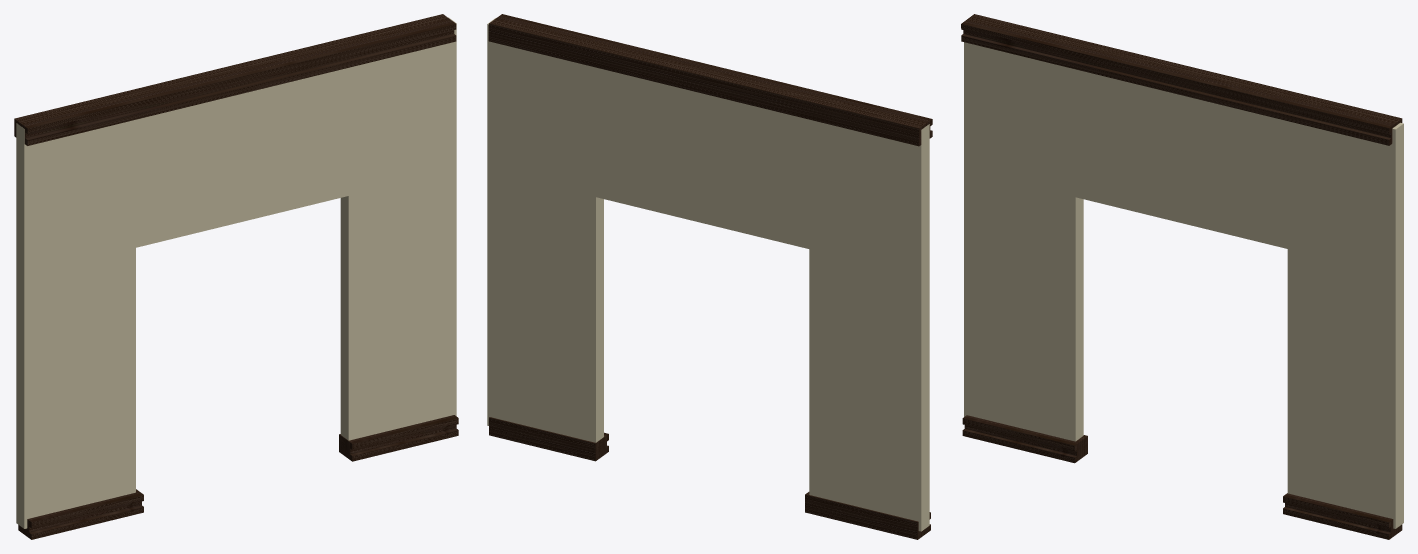
File: Environment_PlainEnteranceWall_Beige.glb
The picture shows the model from 3 angles, left to right: view 1: azimuth 30°, elevation 25°; view 2: azimuth 150°, elevation 25°; view 3: azimuth 330°, elevation 25°; orthographic projection.
Visible parts, largest first — view 1: Wall R, Cube.004, Cube.007, Cube.008; view 2: Wall R, Cube.004, Cube.008, Cube.007; view 3: Wall R, Cube.004, Cube.007, Cube.008.
Boxes of the visible parts, x1,y1,x2,y2 form: Wall R: [16, 17, 456, 528]; Cube.004: [14, 14, 456, 145]; Cube.007: [18, 489, 143, 539]; Cube.008: [339, 415, 458, 461]; Wall R: [487, 18, 929, 531]; Cube.004: [488, 14, 932, 146]; Cube.008: [489, 417, 608, 461]; Cube.007: [805, 492, 930, 539]; Wall R: [964, 42, 1403, 528]; Cube.004: [961, 14, 1402, 145]; Cube.007: [962, 415, 1087, 463]; Cube.008: [1283, 493, 1402, 539].
Bounding box in the file's own units: 17.4 × 15.83 × 1.02.
Materials: 2 (1 with a texture image).
